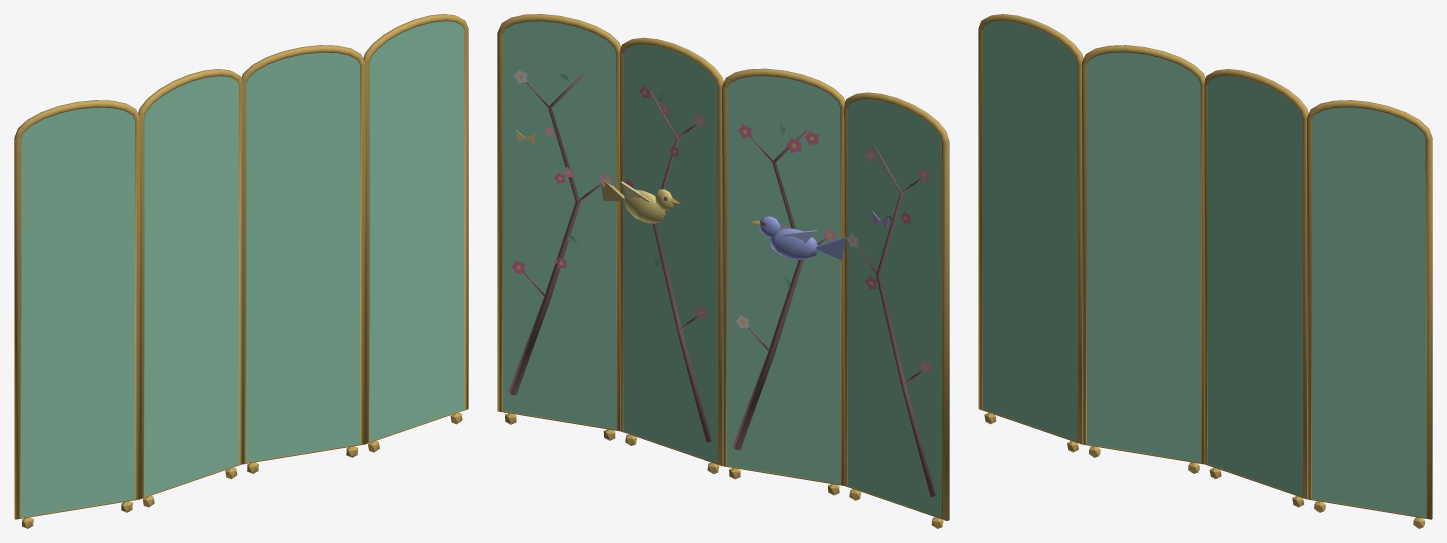
File: folding_screen_painted.glb
3 views of the same model, side by side, from view 1: azimuth 30°, elevation 25°; view 2: azimuth 150°, elevation 25°; view 3: azimuth 330°, elevation 25° (orthographic).
Parts seen in each view (by area): view 1: folding_screen_painted; view 2: folding_screen_painted; view 3: folding_screen_painted.
Boxes of the visible parts, x1=… form: folding_screen_painted: x1=14, y1=14, x2=468, y2=528; folding_screen_painted: x1=497, y1=14, x2=949, y2=528; folding_screen_painted: x1=978, y1=14, x2=1432, y2=528.
Size of what is drawn, in the model's own units: 2.1 by 1.85 by 0.12.
